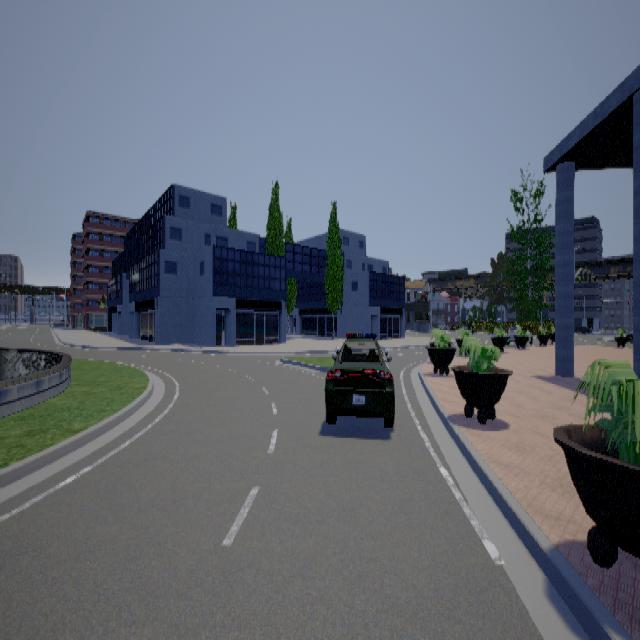vehicle: (323, 332, 394, 426)
